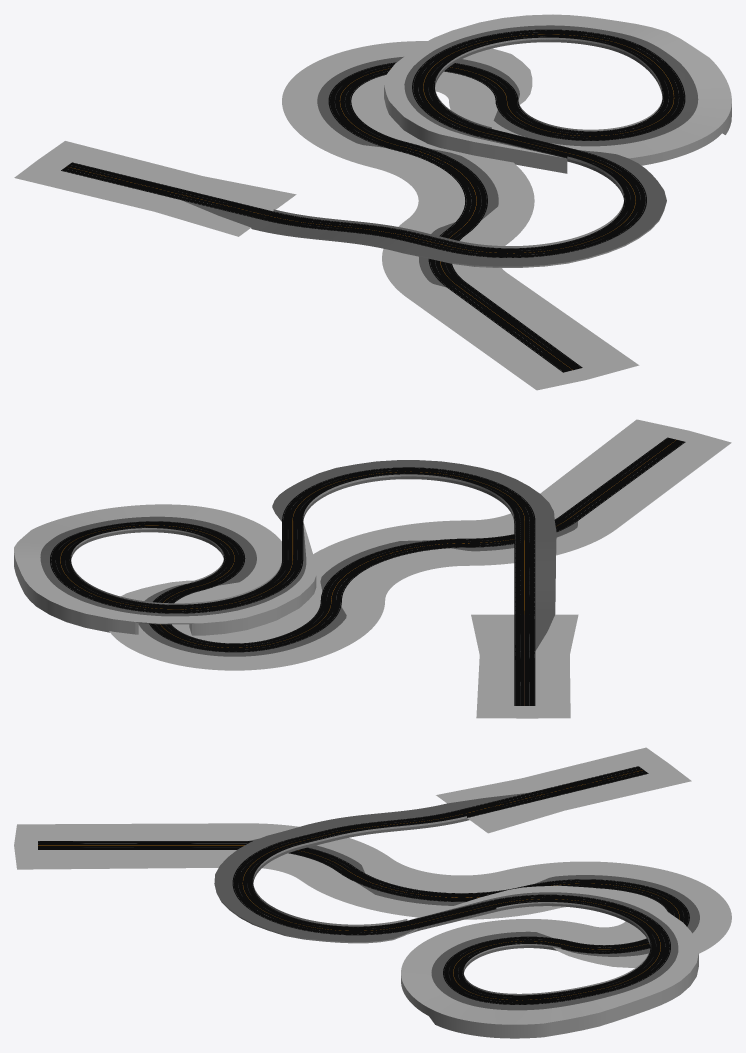
The model's file is race9.fbx.
The picture shows the model from 3 angles, top to bottom: view 1: azimuth 30°, elevation 25°; view 2: azimuth 150°, elevation 25°; view 3: azimuth 270°, elevation 25°; orthographic projection. The views are drawn at different scales.
Parts seen in each view (by area): view 1: polySurface54, polySurface50, polySurface55; view 2: polySurface54, polySurface50, polySurface55; view 3: polySurface54, polySurface50, polySurface55.
Part boxes in pixels (x1,y1,x2,y2): polySurface54: (14, 14, 731, 390); polySurface50: (61, 29, 685, 372); polySurface55: (273, 37, 662, 248); polySurface54: (14, 419, 731, 718); polySurface50: (50, 437, 685, 705); polySurface55: (71, 474, 514, 604); polySurface54: (14, 747, 731, 1038); polySurface50: (38, 766, 689, 1004); polySurface55: (253, 816, 650, 995).
Bounding box in the file's own units: 50333 × 2458 × 54257.
